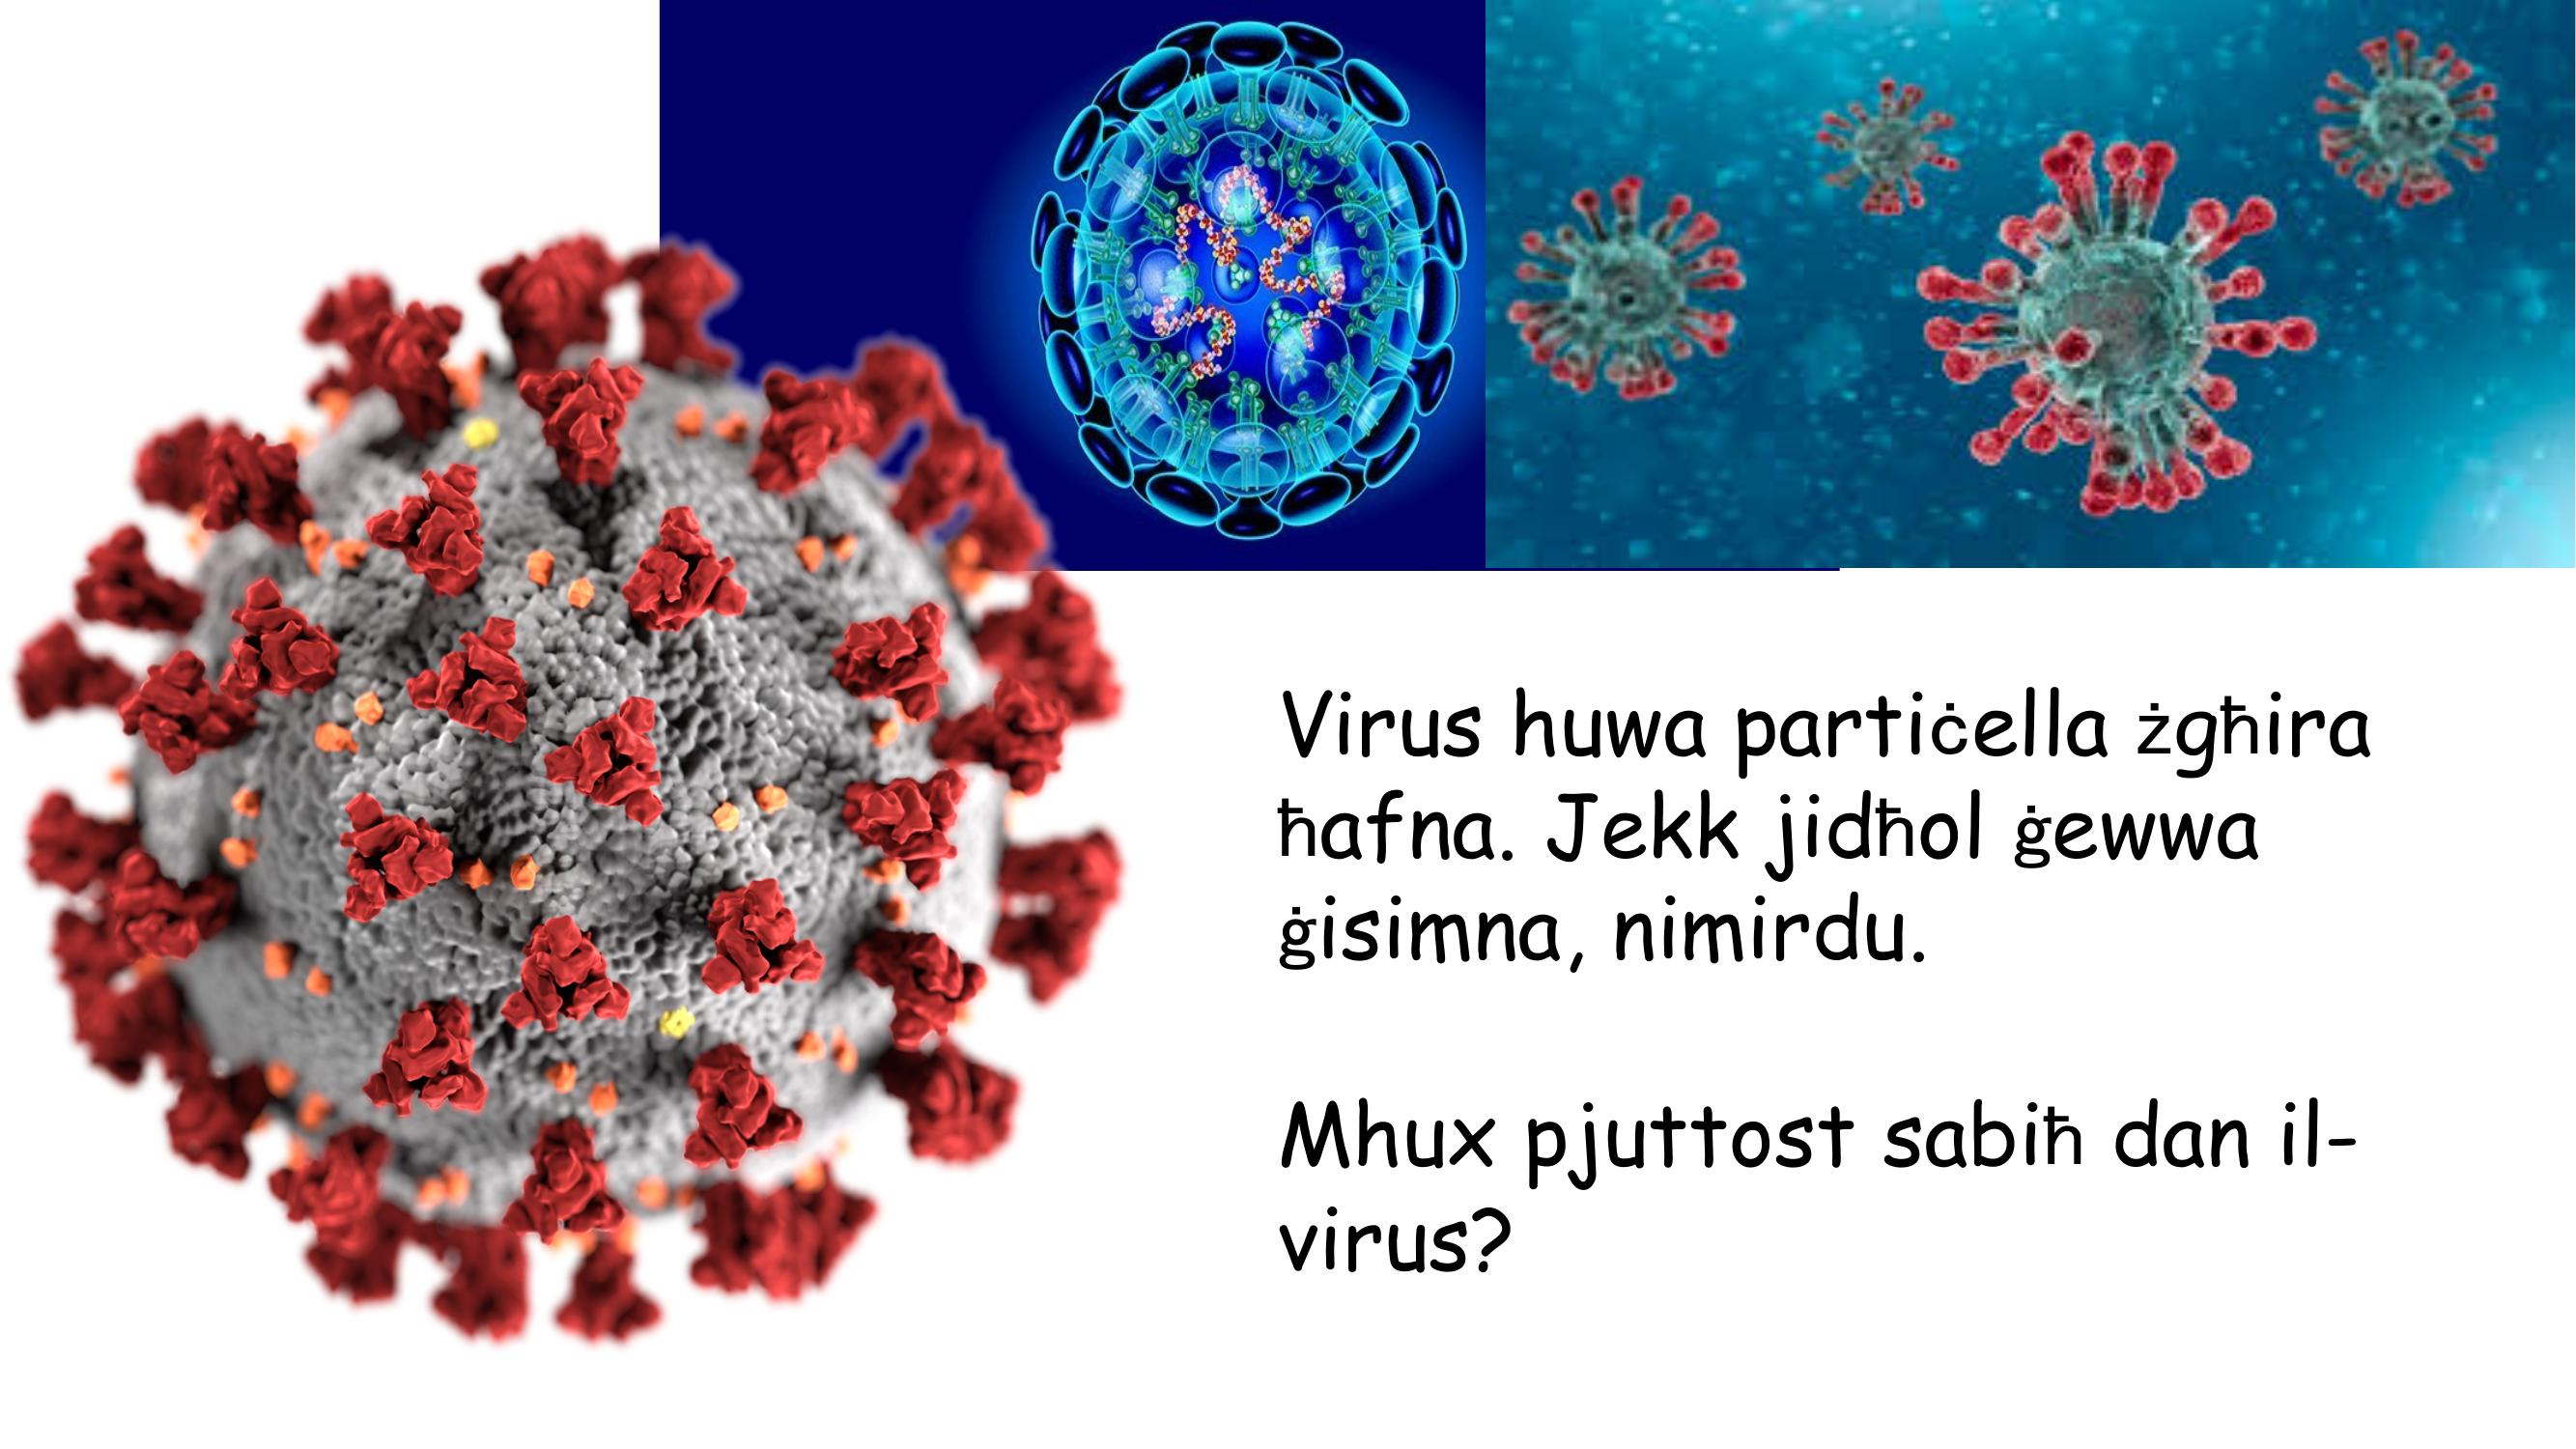text: (1249, 663, 2399, 1332)
